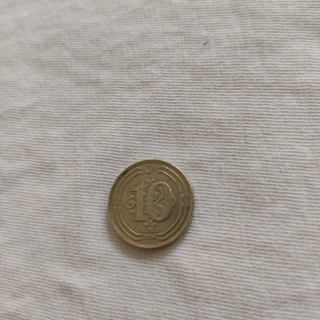10KURUS: (106, 157, 195, 251)
